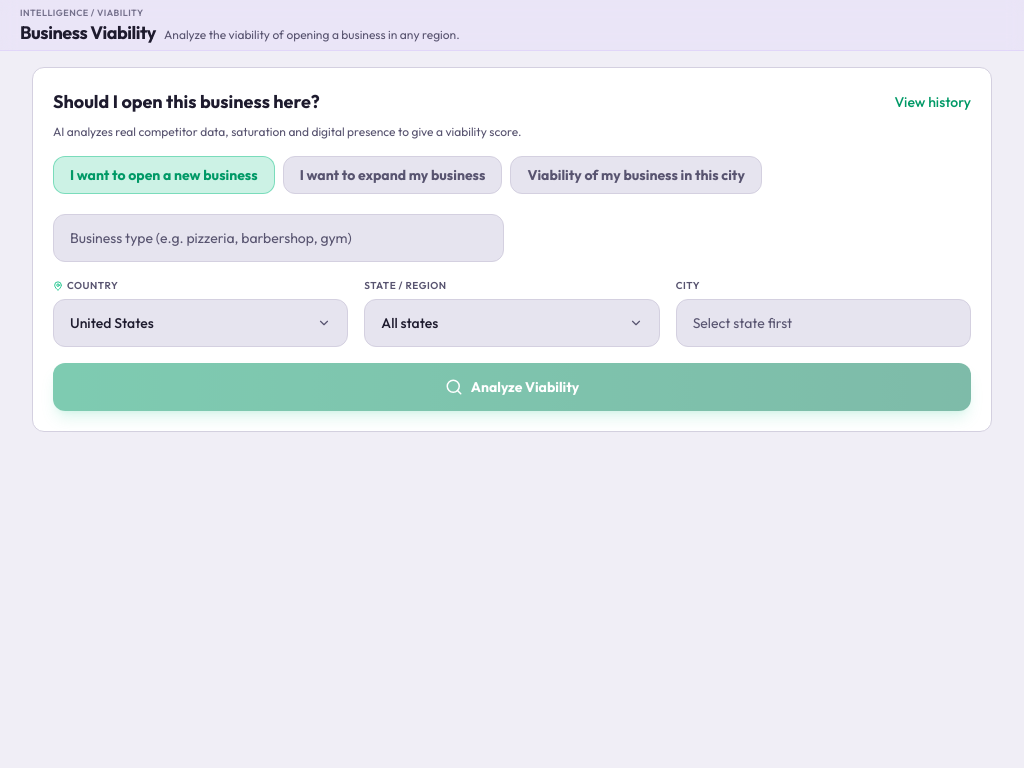
Intelligence modules › ViabilidadePage › passes locale and country when analyzing
Type "Gym" into the field with placeholder "Business type (e.g. pizzeria, barbershop, gym)" at [278, 238], box [53,214,504,262]
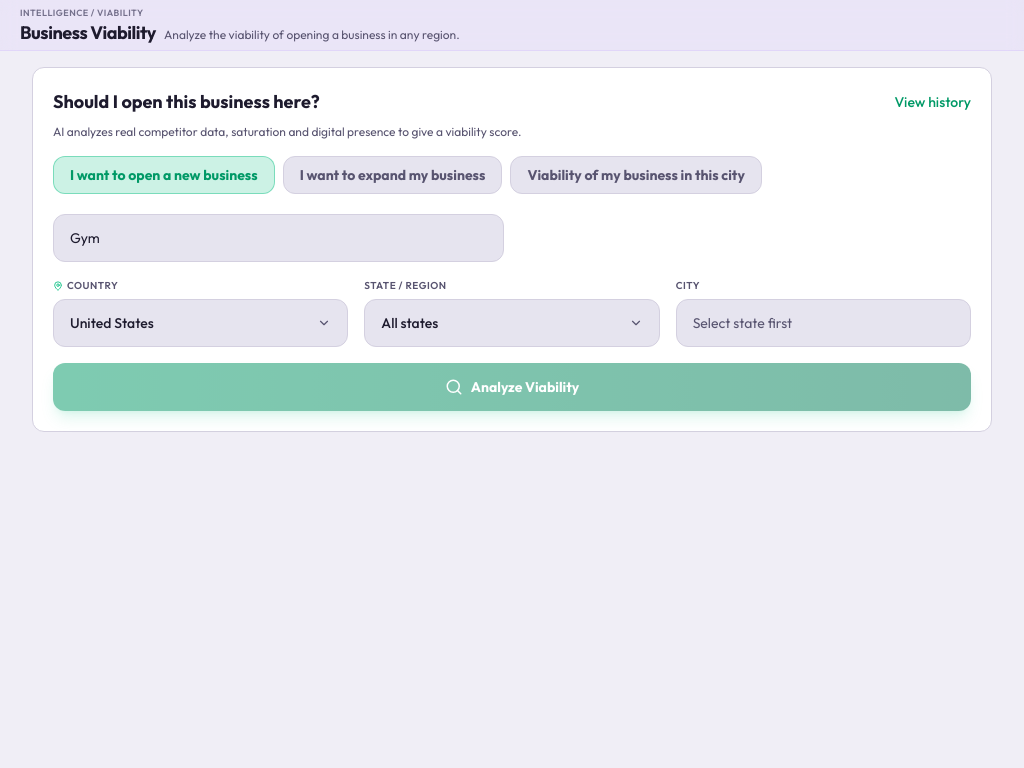
Type "Austin" into the field with placeholder "Select state first" at [823, 323], box [676,299,971,347]
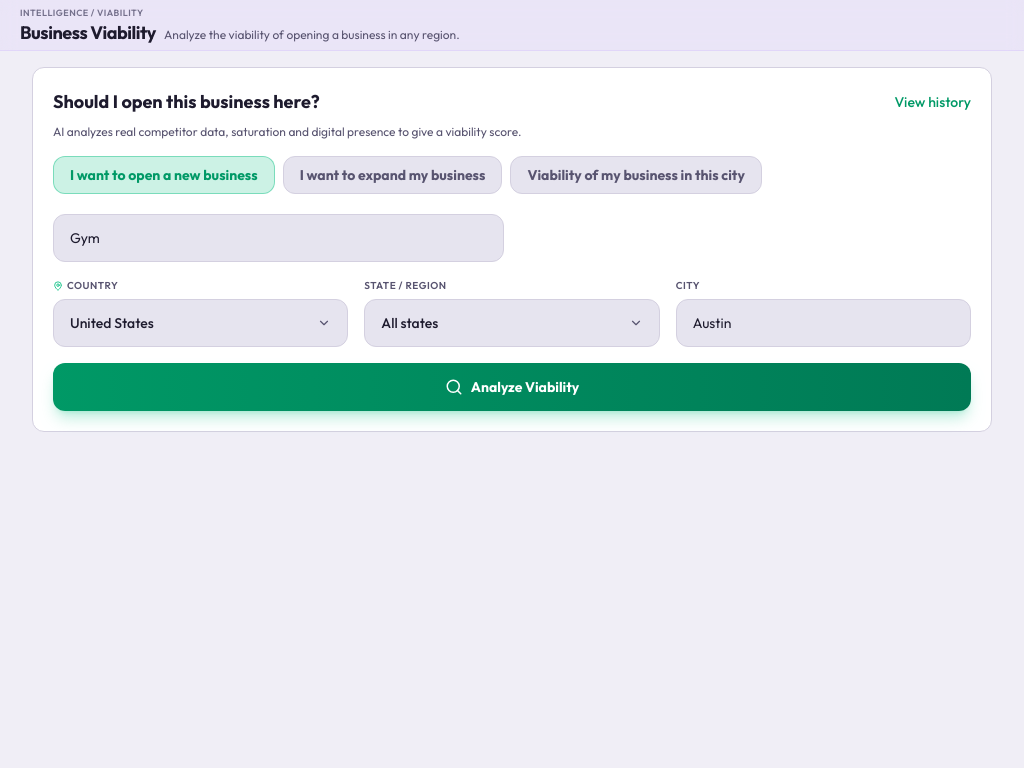
Click the button "Analyze Viability" at [512, 387], box [53,363,971,411]
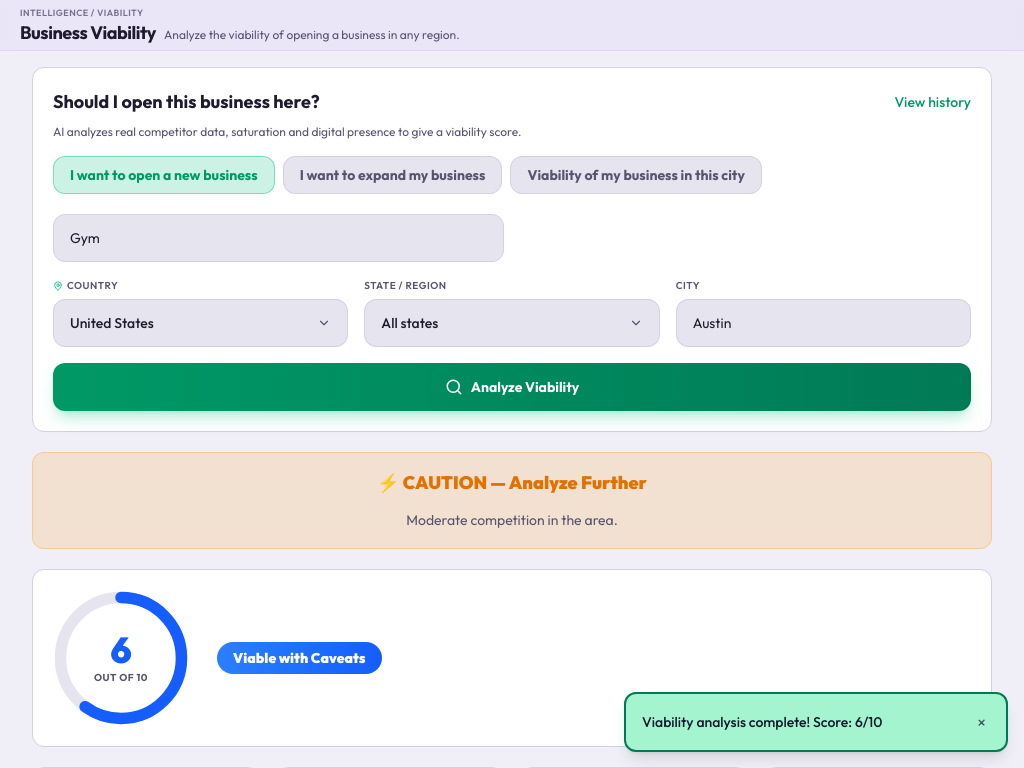
Result: the text "Viable with Caveats" is shown at [217,642,382,674]
Result: the text "Moderate competition in the area." is shown at [406,511,618,529]
